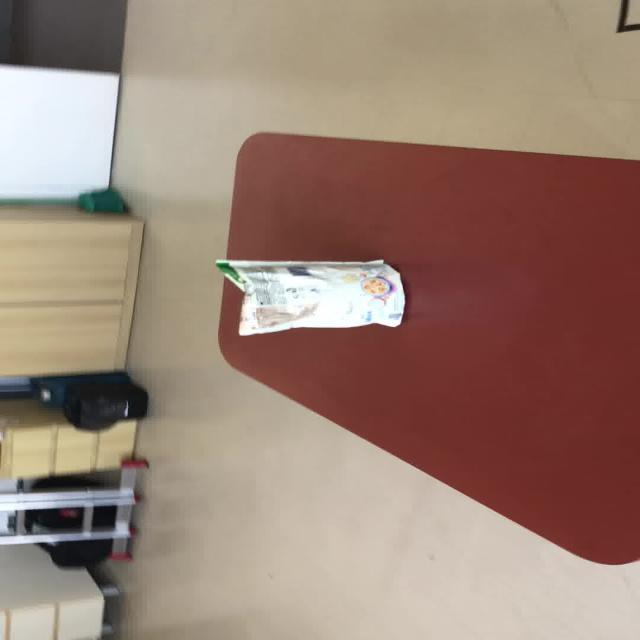corn flakes: (214, 257, 405, 336)
